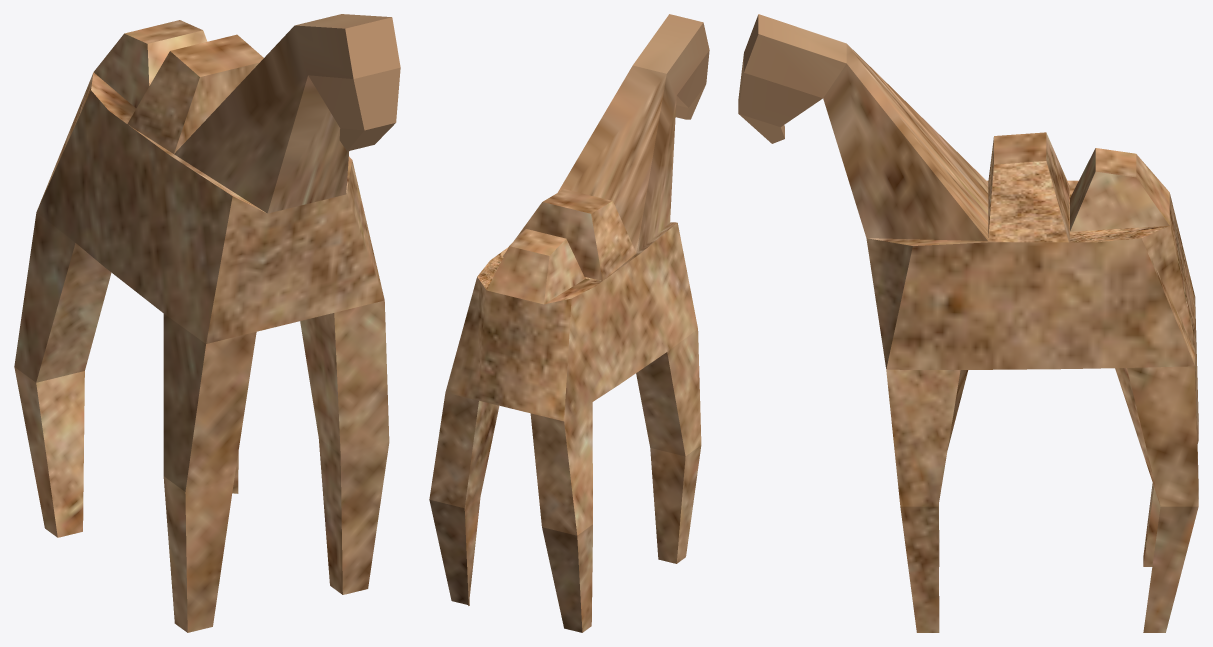
Rendered from camel.FBX.
The picture shows the model from 3 angles, left to right: view 1: azimuth 30°, elevation 25°; view 2: azimuth 150°, elevation 25°; view 3: azimuth 270°, elevation 25°; orthographic projection. The views are drawn at different scales.
Visible parts, largest first — view 1: Box001; view 2: Box001; view 3: Box001.
Part boxes in pixels (x1,y1,x2,y2): Box001: [14, 14, 400, 632]; Box001: [429, 14, 709, 632]; Box001: [738, 14, 1198, 632].
Bounding box in the file's own units: 25.89 × 79.42 × 58.08.
1 material, 1 textured.
